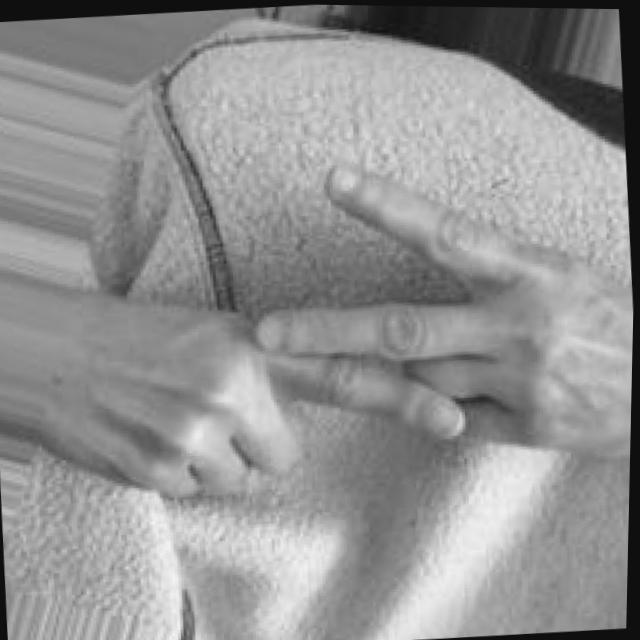Z: (61, 134, 637, 512)
